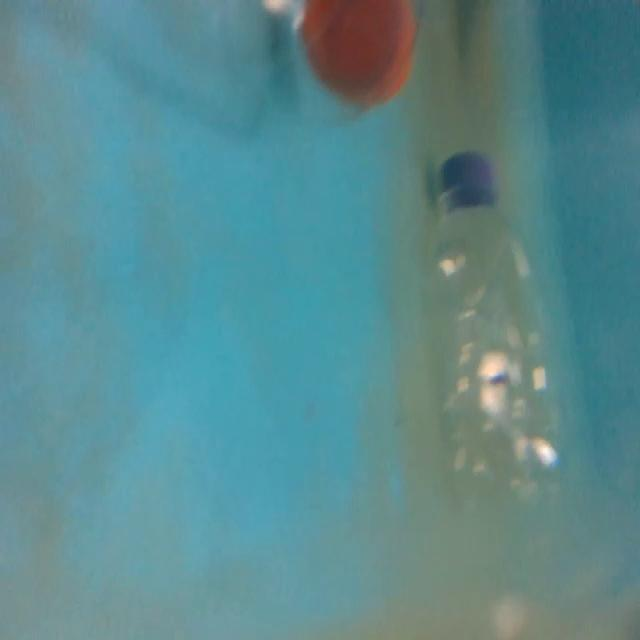plastic bottle: (416, 145, 585, 539)
